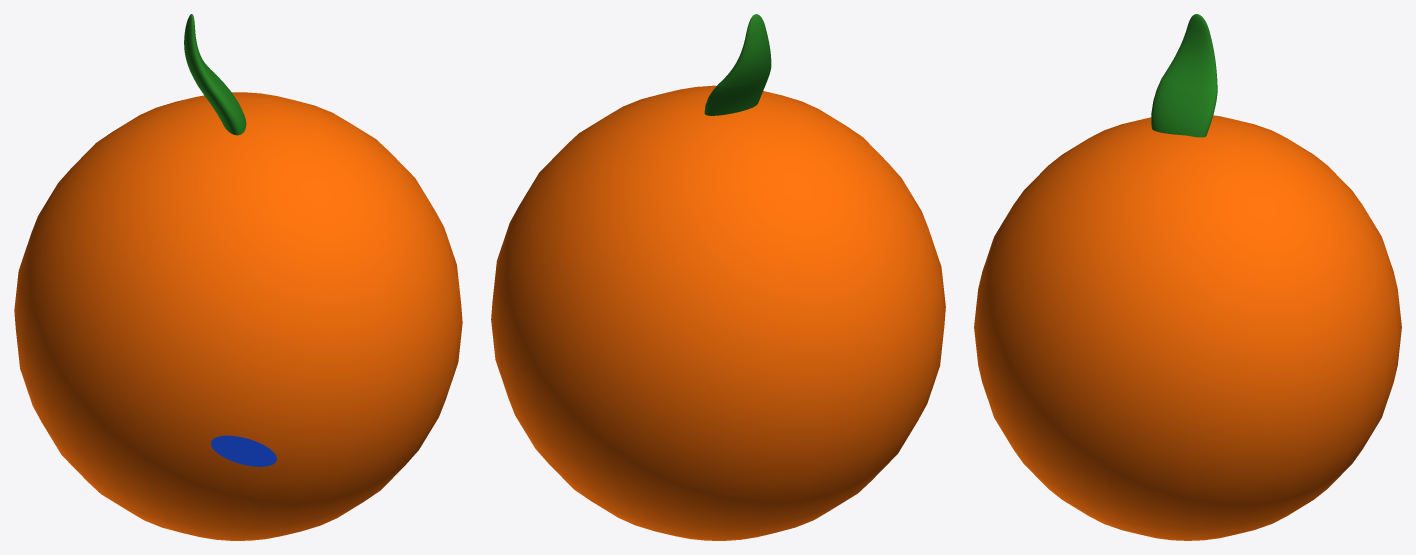
Rendered from Taronja.fbx.
3 renders of one model, left to right at view 1: azimuth 30°, elevation 25°; view 2: azimuth 150°, elevation 25°; view 3: azimuth 270°, elevation 25°, orthographic. The views are drawn at different scales.
Visible parts, largest first — view 1: Taronja; view 2: Taronja; view 3: Taronja.
Part boxes in pixels (<box>): Taronja: <box>14,14,462,540</box>; Taronja: <box>491,14,945,540</box>; Taronja: <box>974,14,1401,540</box>.
Bounding box in the file's own units: 135 × 169 × 135.
